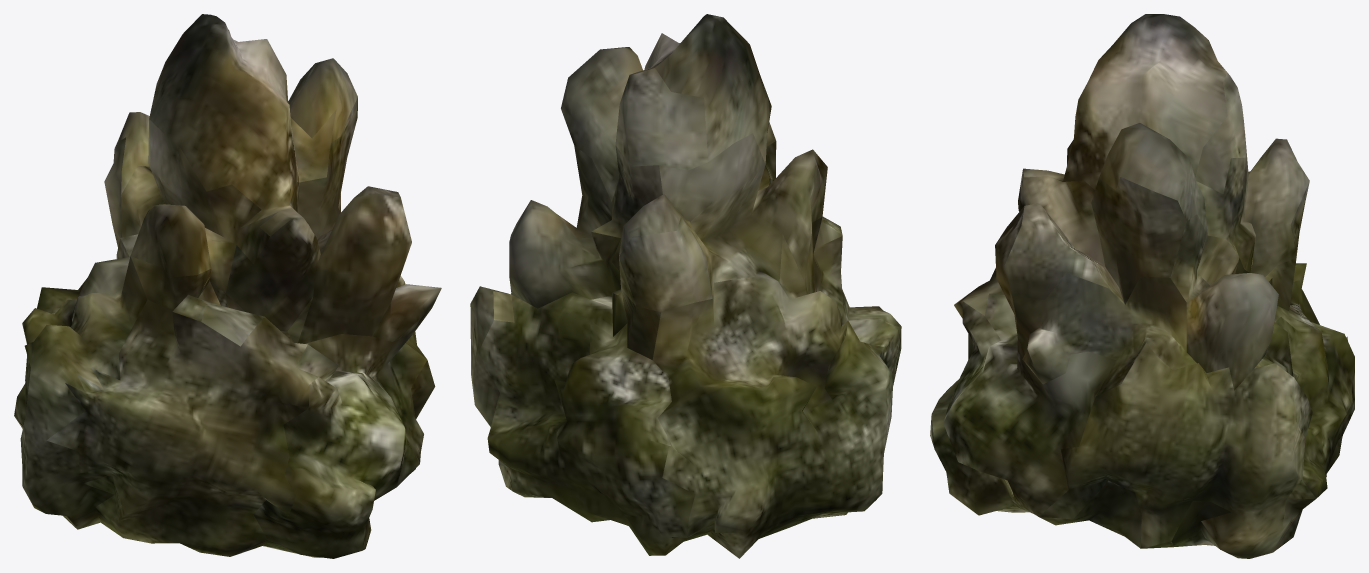
The model's file is crystal-ethics_03.glb.
The picture shows the model from 3 angles, left to right: view 1: azimuth 30°, elevation 25°; view 2: azimuth 150°, elevation 25°; view 3: azimuth 270°, elevation 25°; orthographic projection. The views are drawn at different scales.
Parts seen in each view (by area): view 1: mesh_node.001; view 2: mesh_node.001; view 3: mesh_node.001.
Boxes of the visible parts, box(x1,y1,x2,y2) form: mesh_node.001: box(14, 14, 441, 558); mesh_node.001: box(470, 14, 901, 558); mesh_node.001: box(930, 14, 1354, 558).
Size of the model in its own units: 0.2812 by 0.3594 by 0.2812.
Materials: 1 (1 with a texture image).
